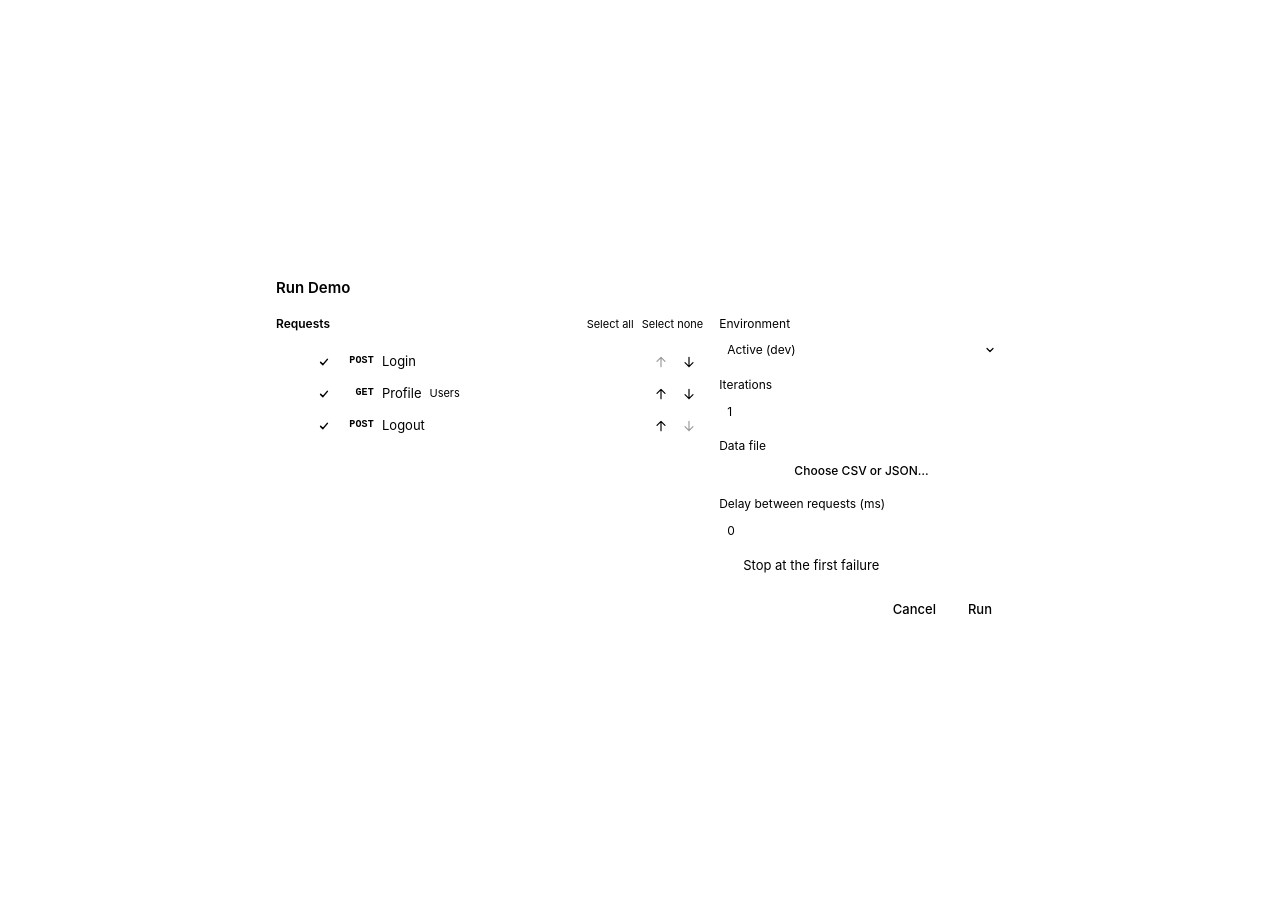
Test case: RunnerDialog › shows results and reruns the failed requests
The image size is (1280, 900).
Click the button "Run".
click(980, 609)  # box [956,595,1004,623]
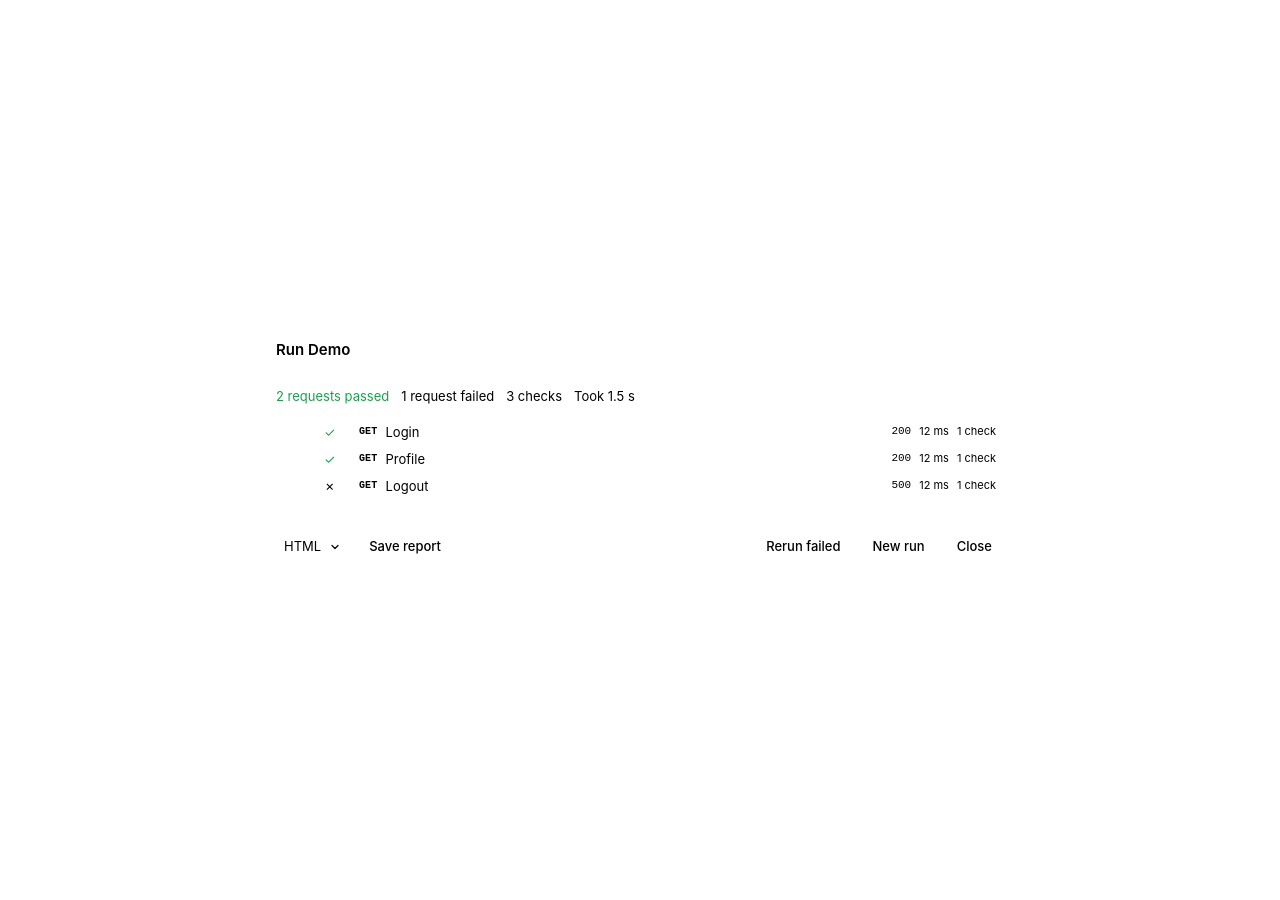
Expected: the text "2 requests passed" is shown, [276,387,389,406]
Expected: the text "1 request failed" is shown, [401,387,494,406]
Expected: the text "Took 1.5 s" is shown, [574,387,635,406]
Click the button "✗ GET Logout 500 12 ms 1 check".
click(407, 486)  # box [316,473,1004,500]
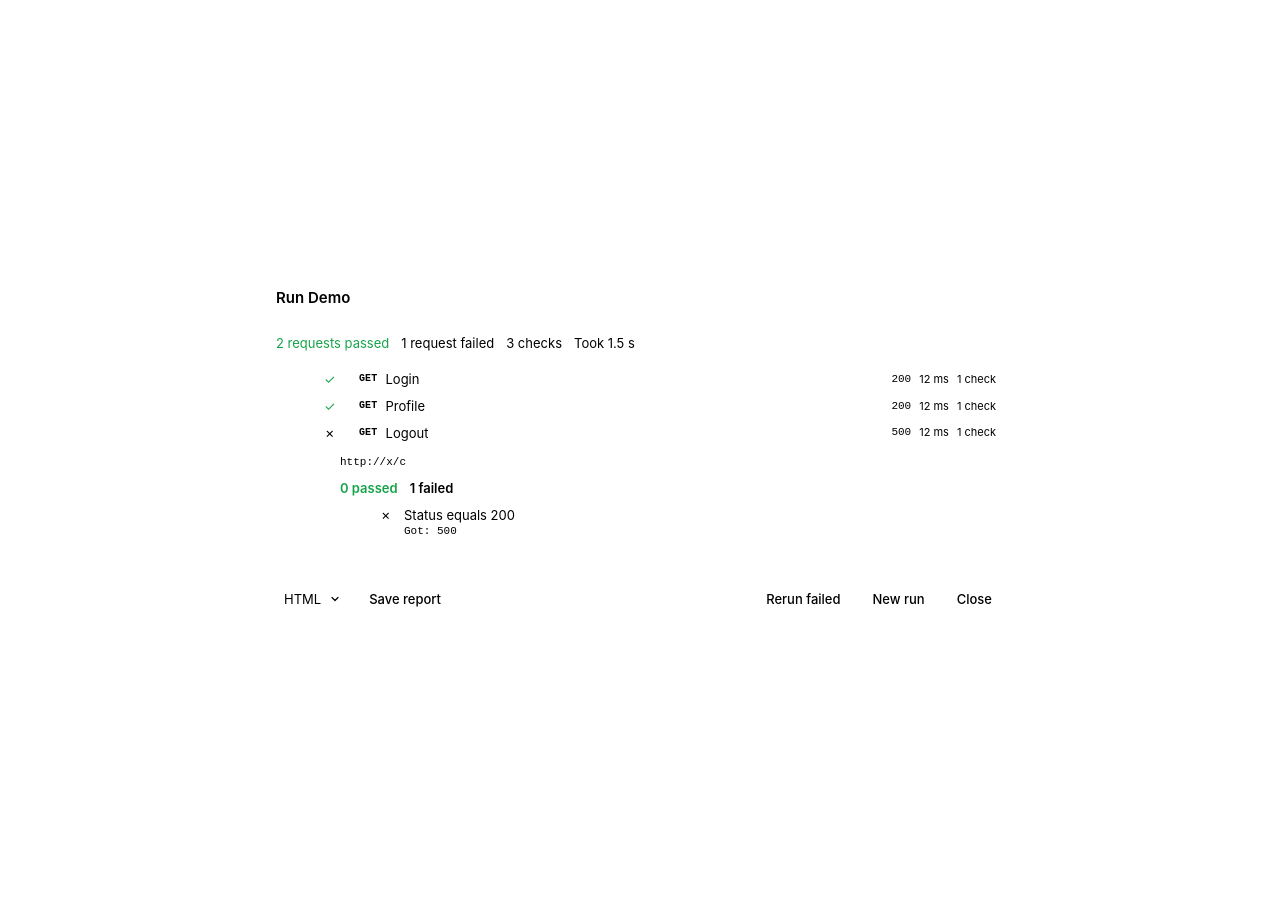
Expected: the text "Status equals 200" is shown, [404,507,515,523]
Click the button "Rerun failed".
click(803, 599)  # box [754,585,852,613]
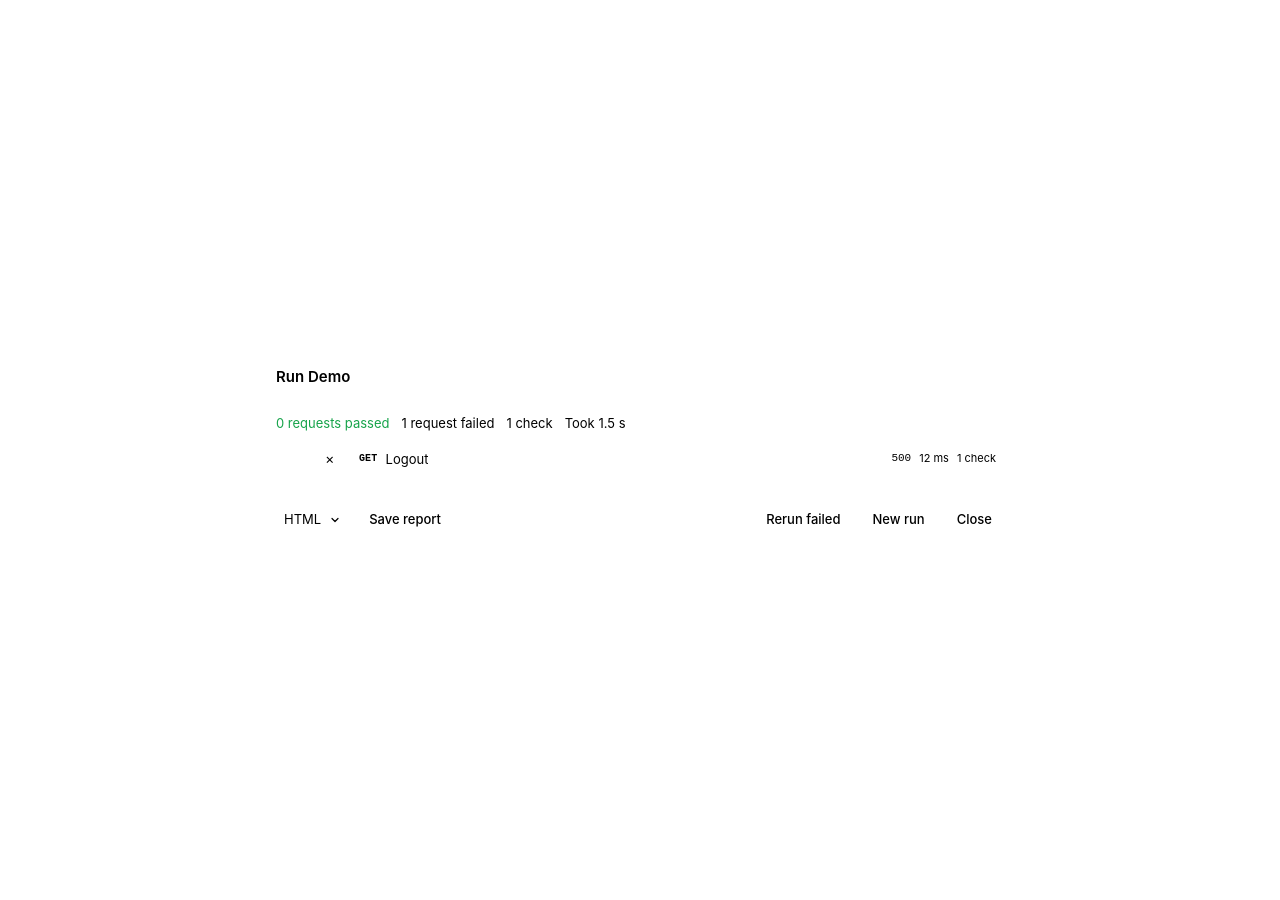
Click the button "New run".
click(899, 520)  # box [860,506,937,534]
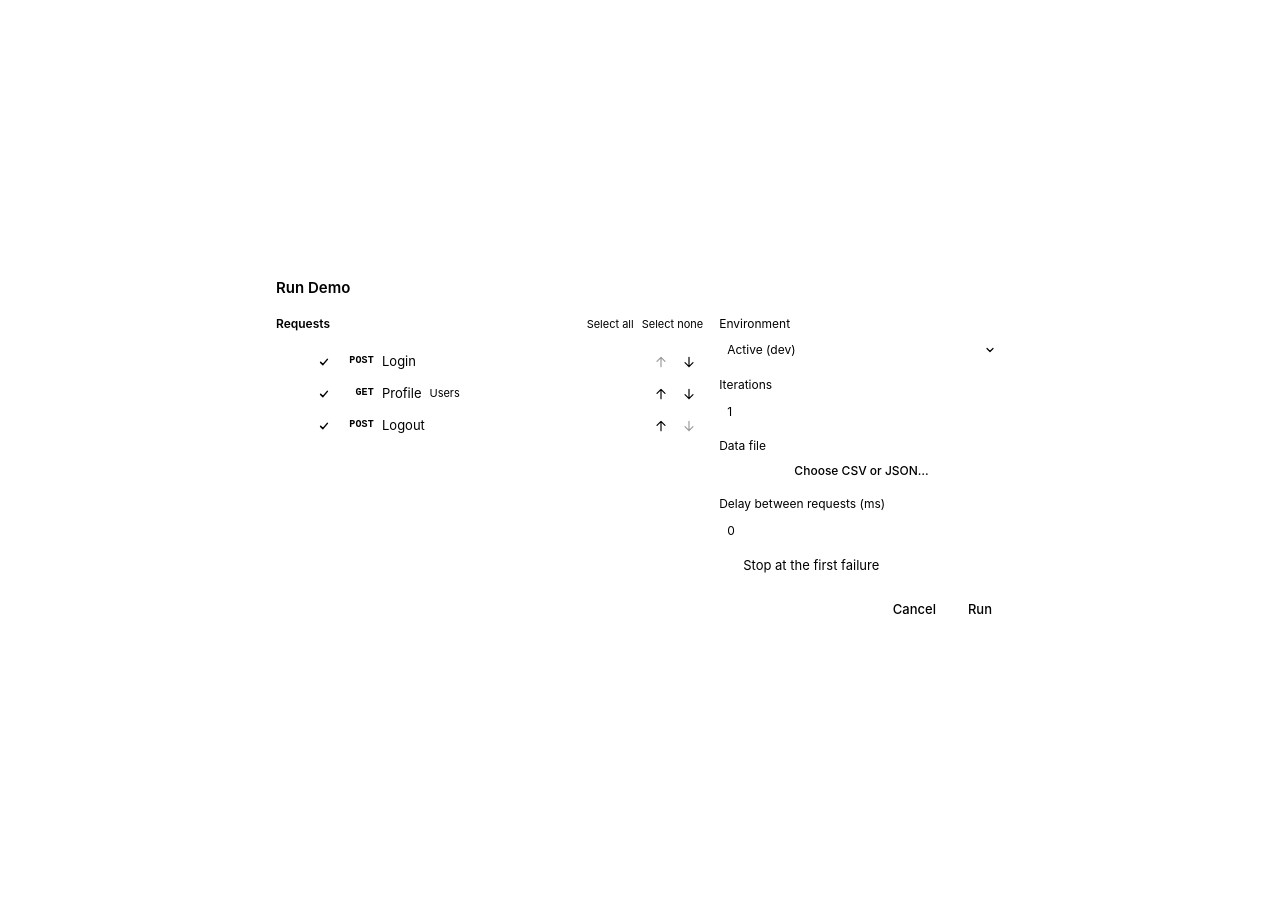
Expected: the checkbox named "Login" is shown, [316,354,332,370]
